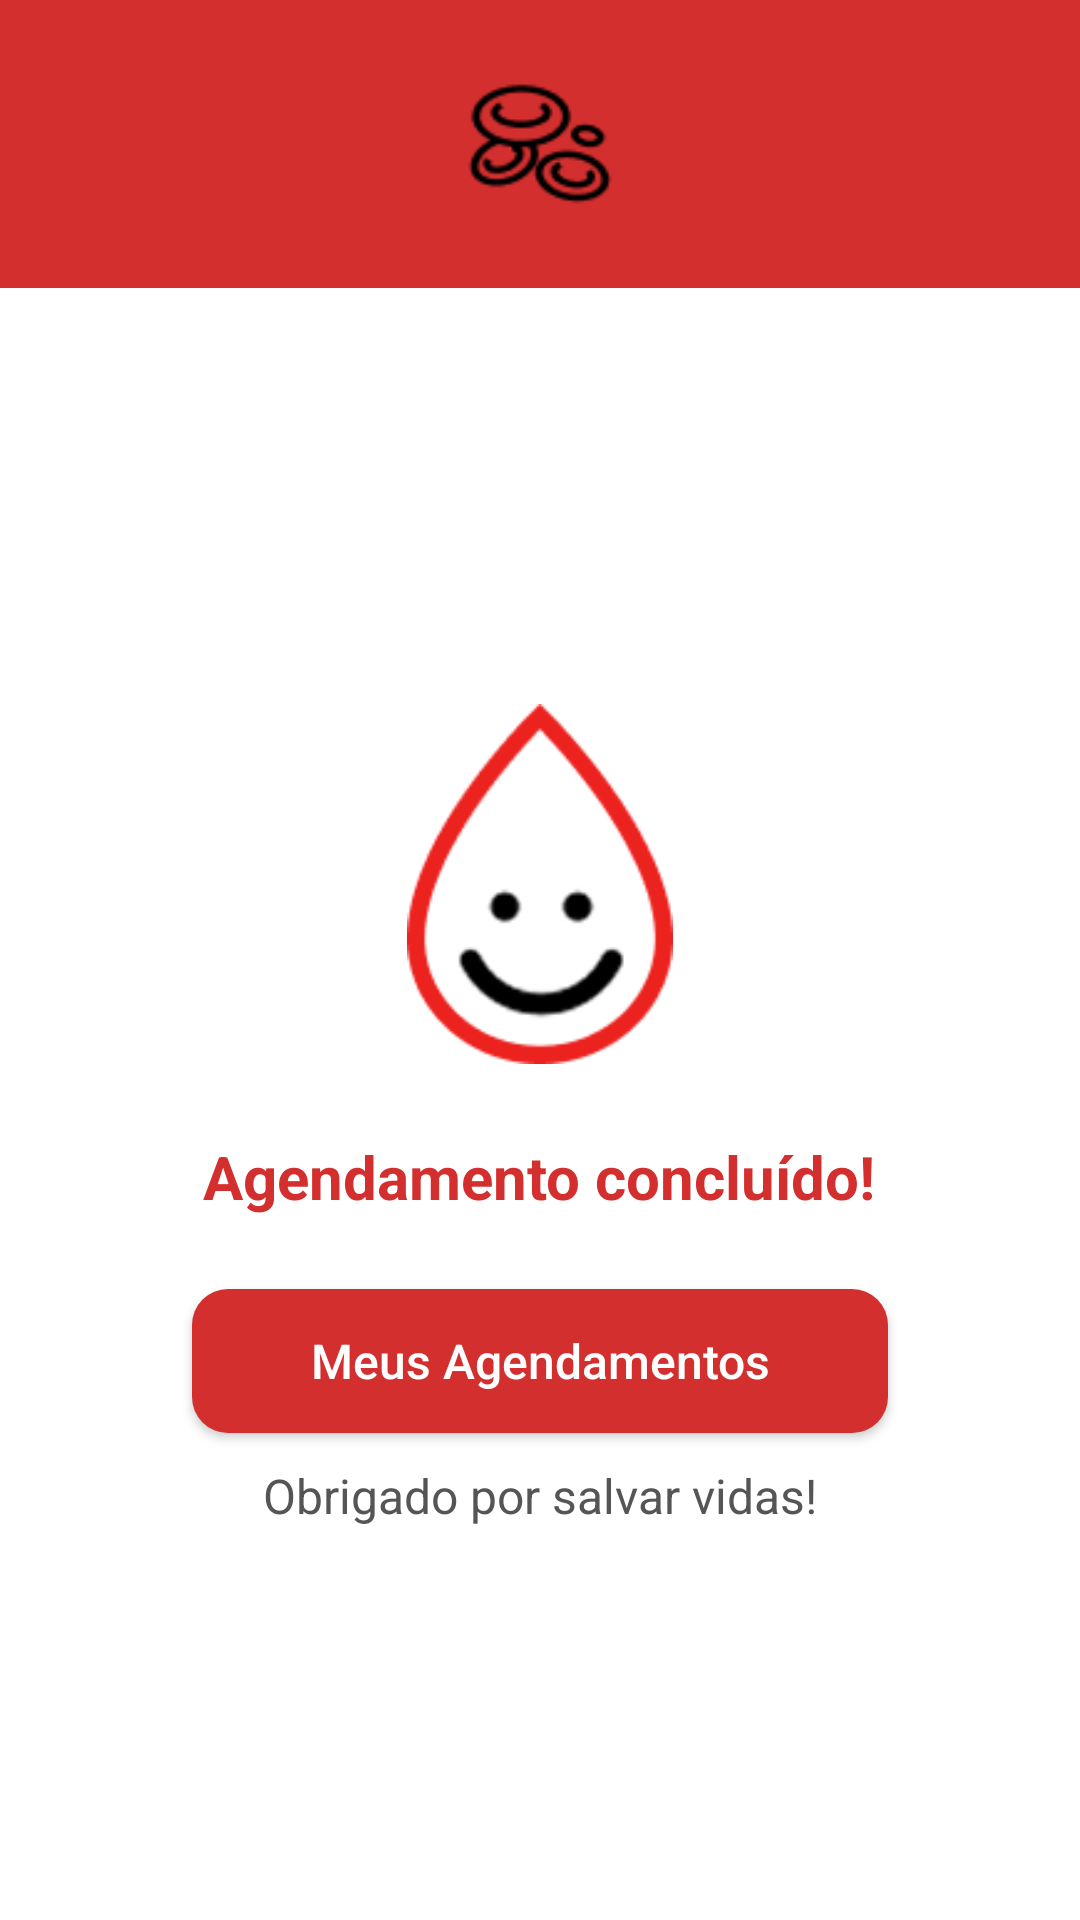

Screen size 1080×1920. Icon name, then its center in pixels as point (x, y):
Ícone de gota sorrindo: point (540, 884)
